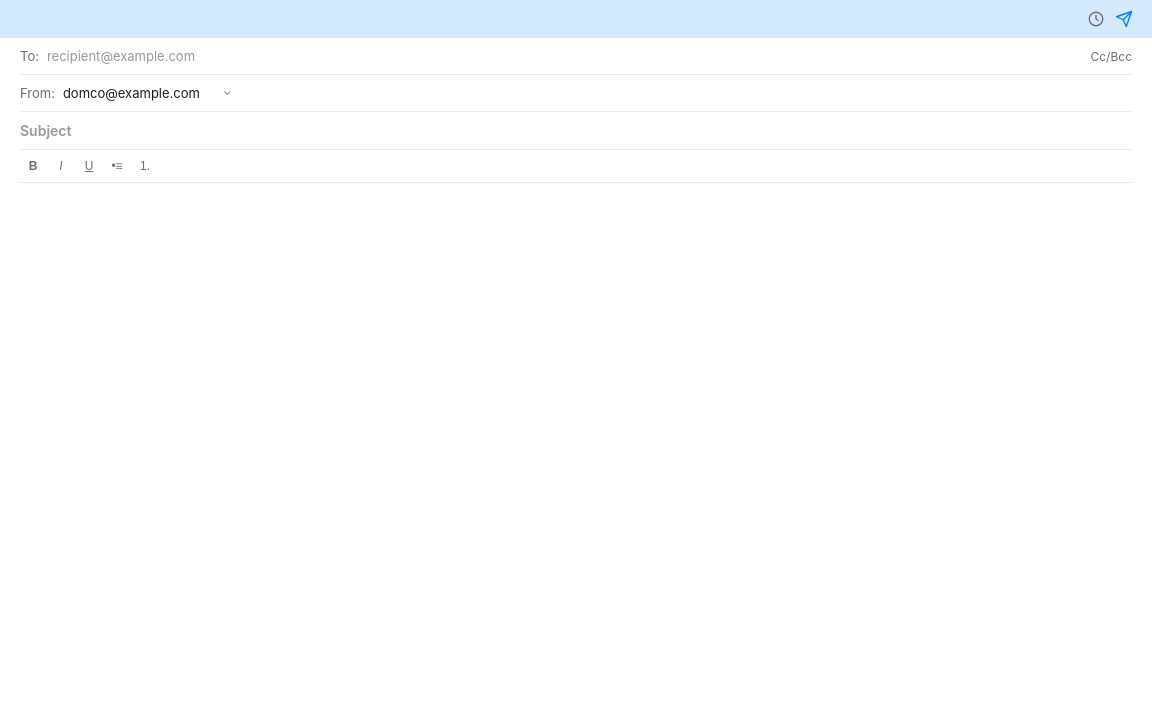
Test case: shows an extension placeholder when there is no preview
Expected: the dropdown named "From" shows "domco@example.com", top-left (63, 85), bottom-right (215, 101)
Type "bob@example.com" into the field named "To" at (565, 56), box top-left (47, 48), bottom-right (1082, 64)
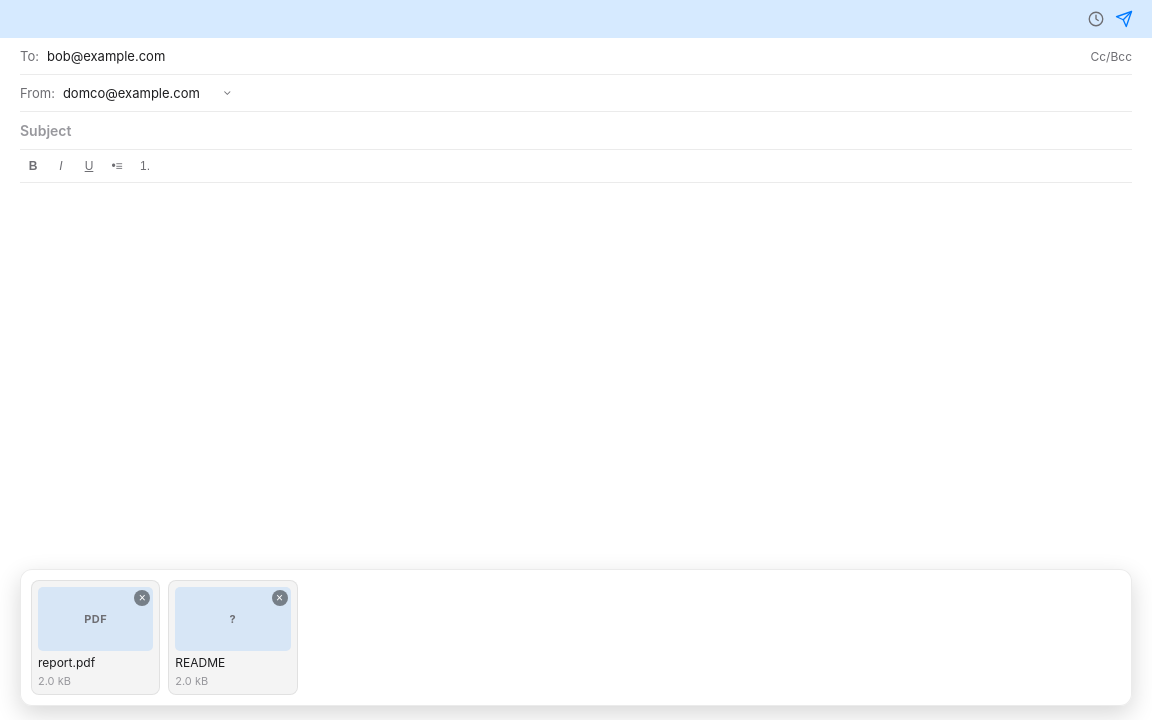
Result: the text "PDF" is shown at top-left (38, 587), bottom-right (153, 651)
Result: the text "?" is shown at top-left (175, 587), bottom-right (291, 651)
